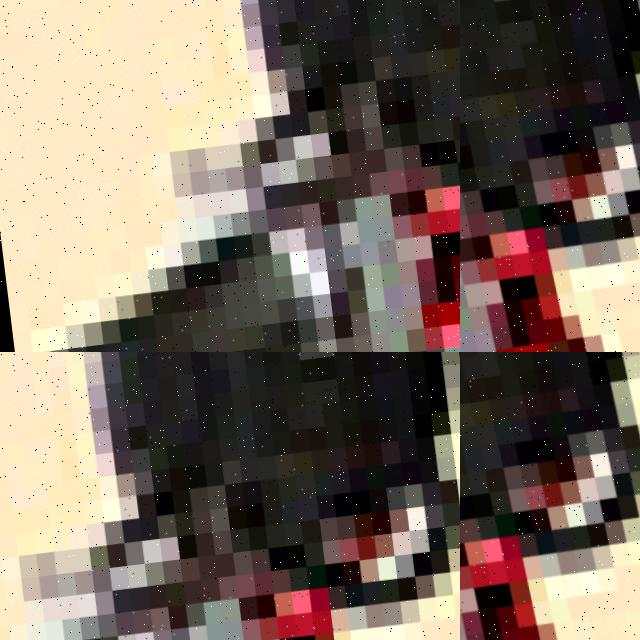drone: (460, 0, 640, 352), (460, 352, 640, 640)
